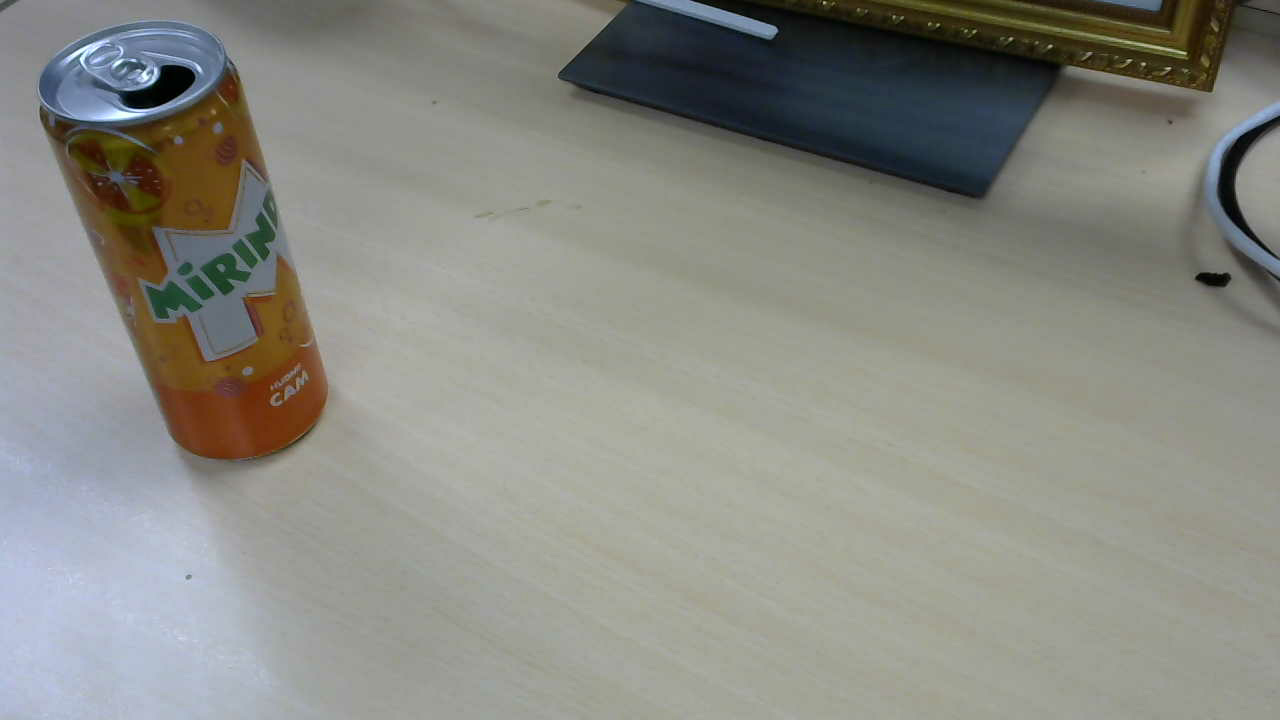Mirinda: (44, 24, 337, 466)
